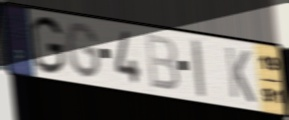4: (114, 29, 143, 87)
B: (143, 32, 181, 94)
G: (64, 20, 103, 82), (29, 14, 67, 77)
I: (189, 38, 207, 99)
K: (223, 44, 257, 106)
